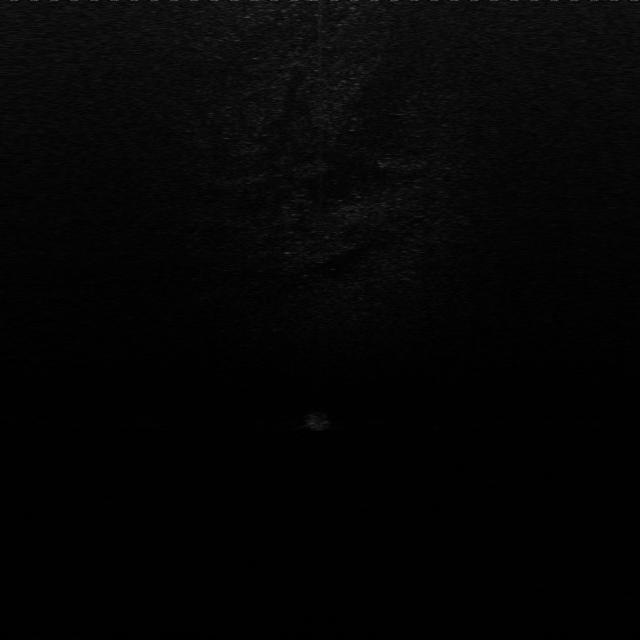circle cage: (298, 411, 337, 434)
